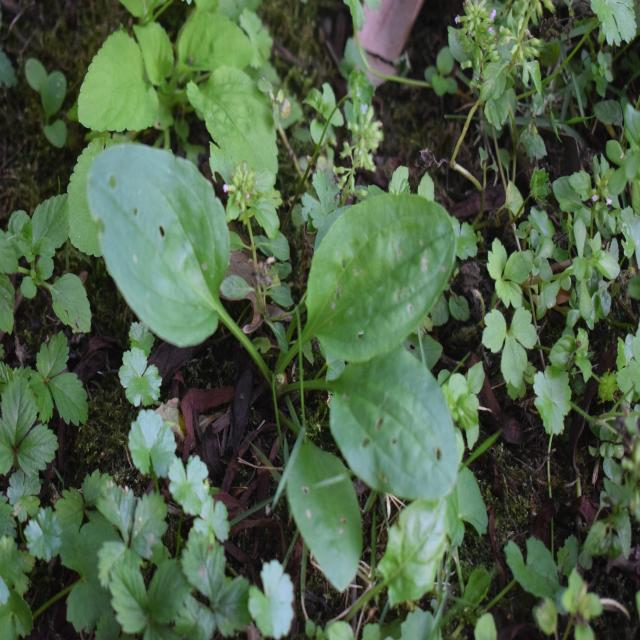plantain: (109, 130, 457, 540)
